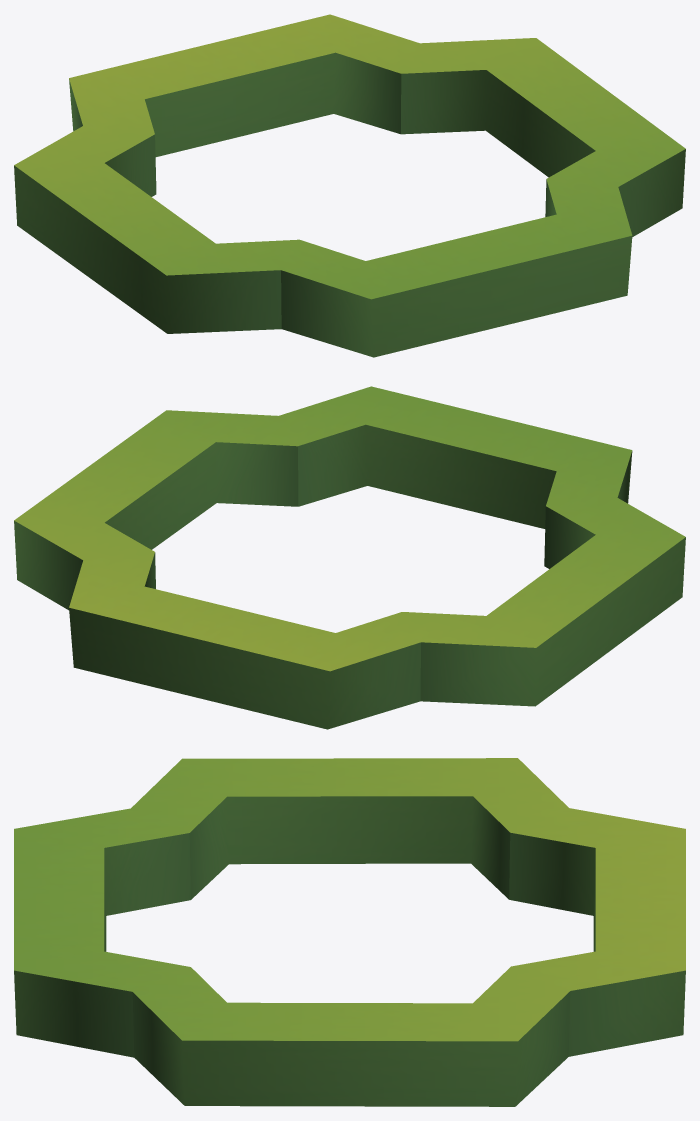
The model's file is paprika_green_slice.fbx.
3 renders of one model, top to bottom at view 1: azimuth 30°, elevation 25°; view 2: azimuth 150°, elevation 25°; view 3: azimuth 270°, elevation 25°, orthographic. The views are drawn at different scales.
Parts seen in each view (by area): view 1: polySurface778; view 2: polySurface778; view 3: polySurface778.
Boxes of the visible parts, box(x1,y1,x2,y2) form: polySurface778: box(14, 14, 685, 357); polySurface778: box(14, 386, 685, 729); polySurface778: box(14, 758, 685, 1106).
Size of the model in its own units: 22.67 by 2.49 by 22.73.
